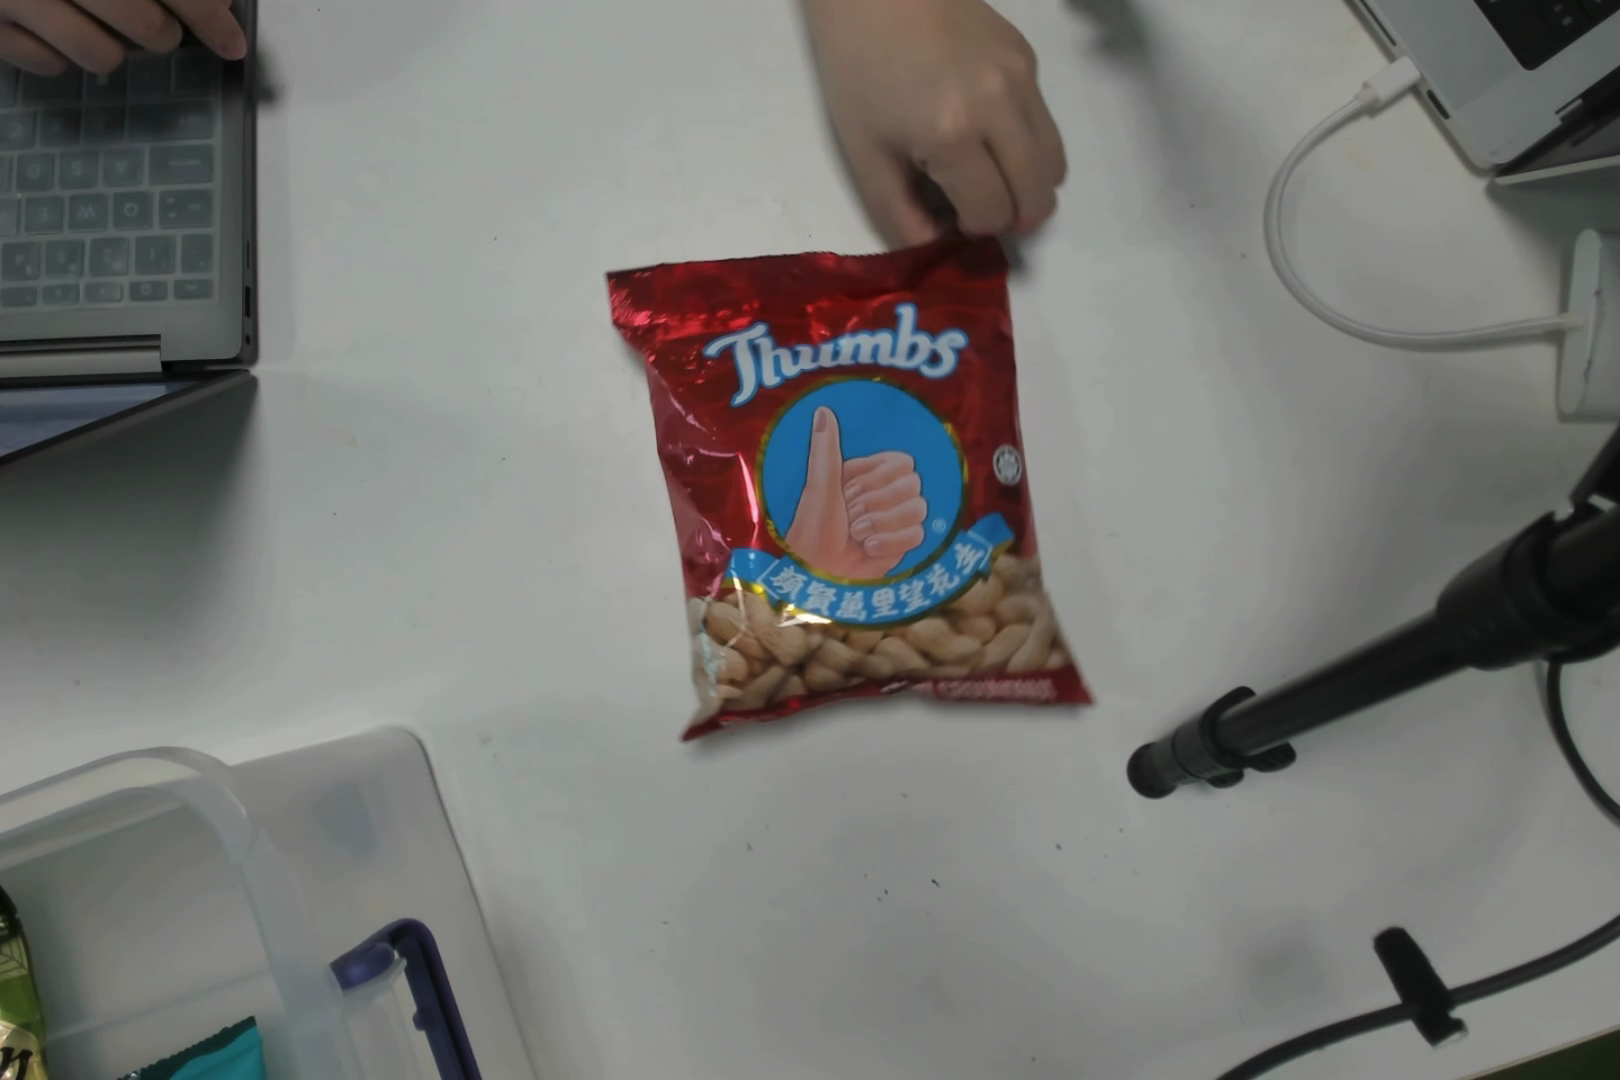Nuts_100-199g_Halal_NonHealthy: (677, 278, 1060, 712)
